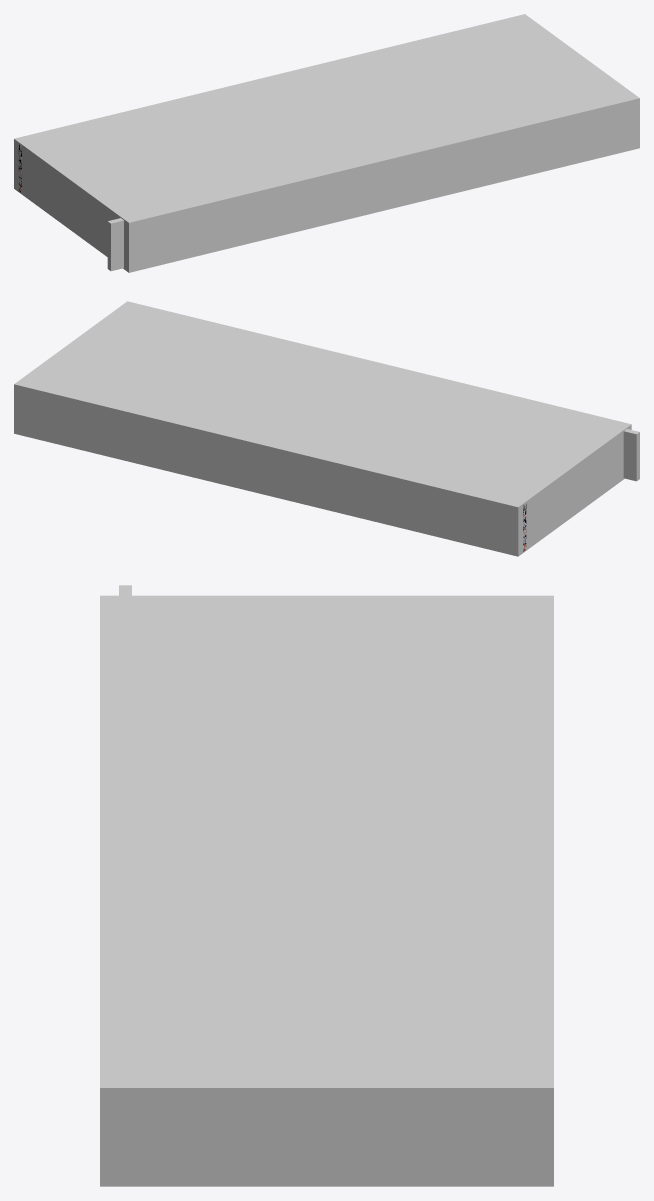
Rendered from Lagos Meet Art Gallery.fbx.
The picture shows the model from 3 angles, top to bottom: view 1: azimuth 30°, elevation 25°; view 2: azimuth 150°, elevation 25°; view 3: azimuth 270°, elevation 25°; orthographic projection. The views are drawn at different scales.
Parts seen in each view (by area): view 1: Cube, Cube.037; view 2: Cube, Cube.037; view 3: Cube.
Part boxes in pixels (x1,y1,x2,y2): Cube: [14, 14, 639, 272]; Cube.037: [107, 218, 123, 271]; Cube: [14, 301, 631, 556]; Cube.037: [623, 429, 639, 481]; Cube: [100, 595, 553, 1186].
Bounding box in the file's own units: 7408 × 676 × 2815.
